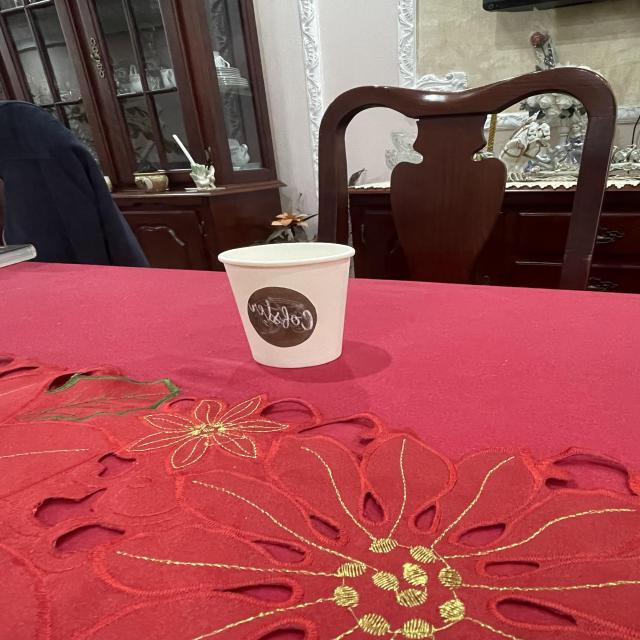small: (216, 237, 364, 371)
